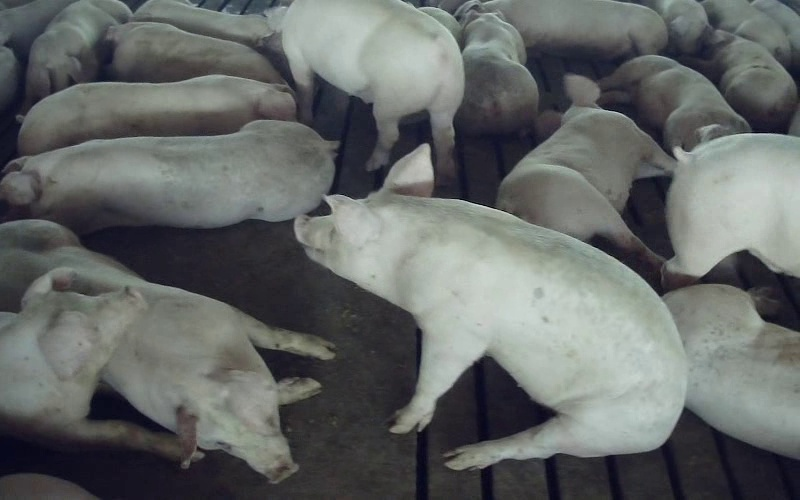pig: (296, 144, 686, 467), (0, 120, 337, 233), (267, 0, 463, 183), (496, 74, 673, 266), (663, 284, 799, 458), (18, 75, 295, 155), (663, 134, 799, 287), (599, 55, 750, 151), (456, 0, 667, 59), (106, 22, 285, 82), (455, 10, 538, 134), (133, 0, 272, 47), (702, 0, 790, 68), (653, 0, 710, 54)
